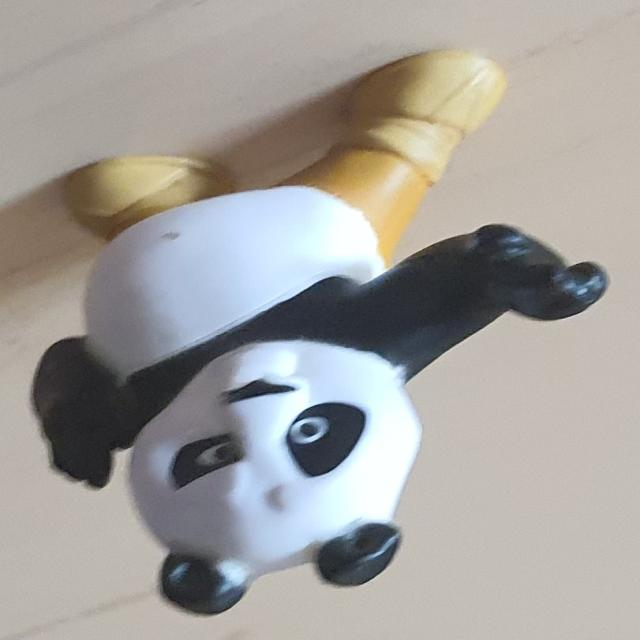Panda: (30, 50, 610, 618)
